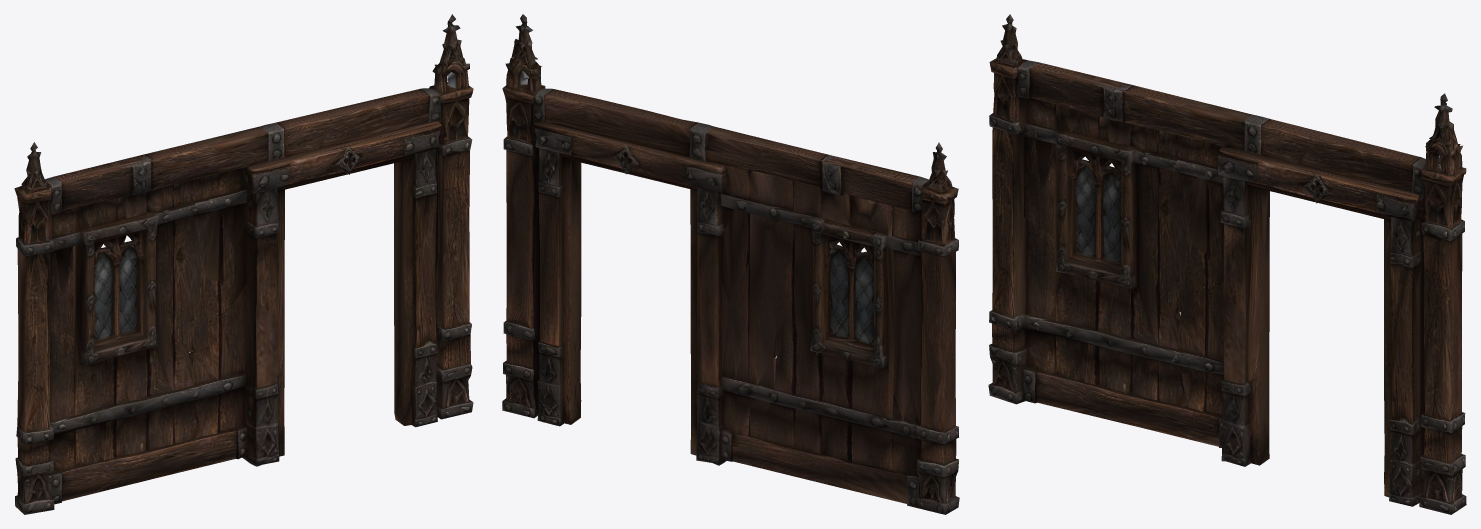
File: boothdoorwall.glb
3 renders of one model, left to right at view 1: azimuth 30°, elevation 25°; view 2: azimuth 150°, elevation 25°; view 3: azimuth 330°, elevation 25°, orthographic. The views are drawn at different scales.
Visible parts, largest first — view 1: boothdoorwall; view 2: boothdoorwall; view 3: boothdoorwall.
Boxes of the visible parts, box(x1,y1,x2,y2) form: boothdoorwall: box(14, 14, 473, 514); boothdoorwall: box(502, 14, 959, 514); boothdoorwall: box(988, 14, 1466, 514).
Size of the model in its own units: 2.97 by 2.5 by 0.25.
Materials: 1 (1 with a texture image).
